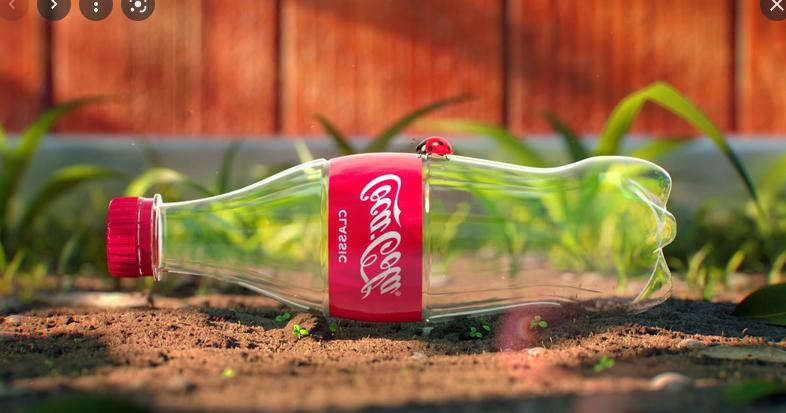Plastic: (103, 150, 684, 337)
